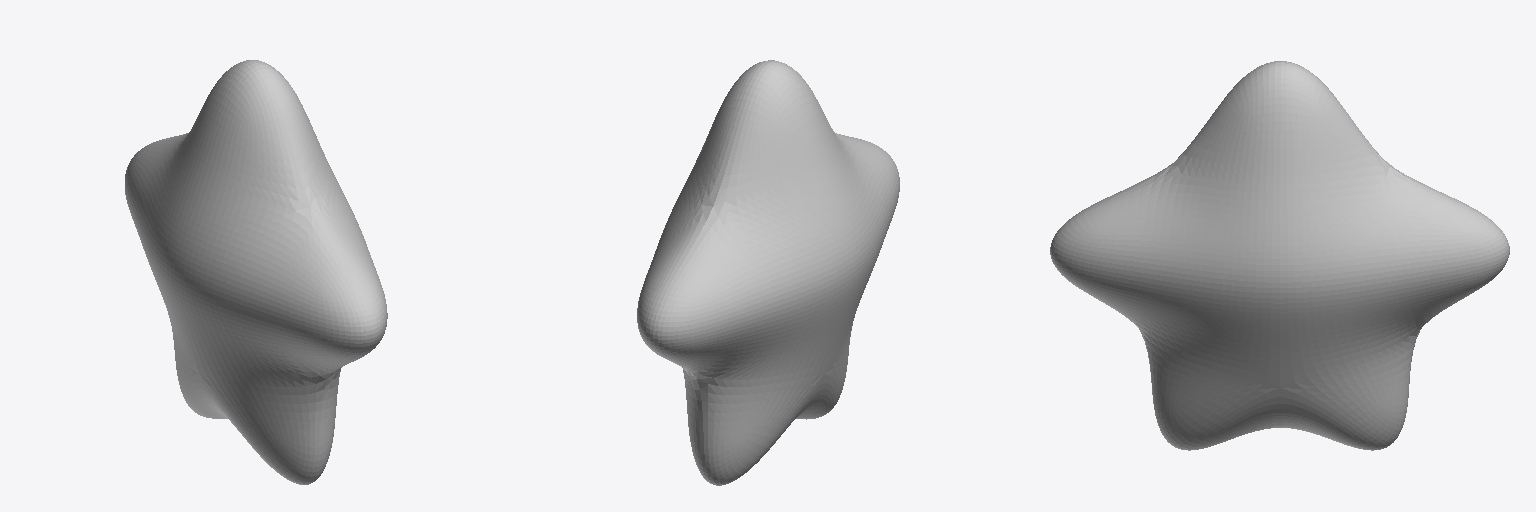
The model's file is cute_star_5888.obj.
3 renders of one model, left to right at view 1: azimuth 30°, elevation 25°; view 2: azimuth 150°, elevation 25°; view 3: azimuth 270°, elevation 25°, orthographic.
Parts seen in each view (by area): view 1: cute_star_5888; view 2: cute_star_5888; view 3: cute_star_5888.
Boxes of the visible parts, x1,y1,x2,y2 form: cute_star_5888: [125, 60, 387, 484]; cute_star_5888: [637, 60, 899, 485]; cute_star_5888: [1050, 61, 1509, 450].
Bounding box in the file's own units: 1.12 × 2.4 × 2.6.